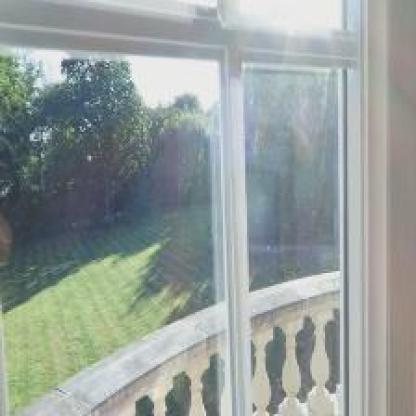other: (122, 62, 228, 114)
